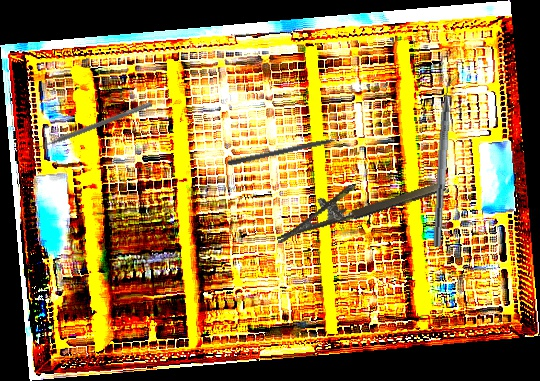Chopper: (432, 72, 462, 248)
Needle Holder: (268, 158, 447, 244)
Pusher: (226, 133, 355, 168)
Spatula Surgical: (32, 95, 153, 154)
